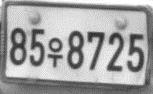2: (106, 31, 124, 71)
5: (126, 33, 144, 72), (29, 28, 45, 66)
7: (87, 31, 105, 71)
8: (66, 30, 84, 69), (9, 27, 26, 65)
우: (46, 37, 63, 68)
